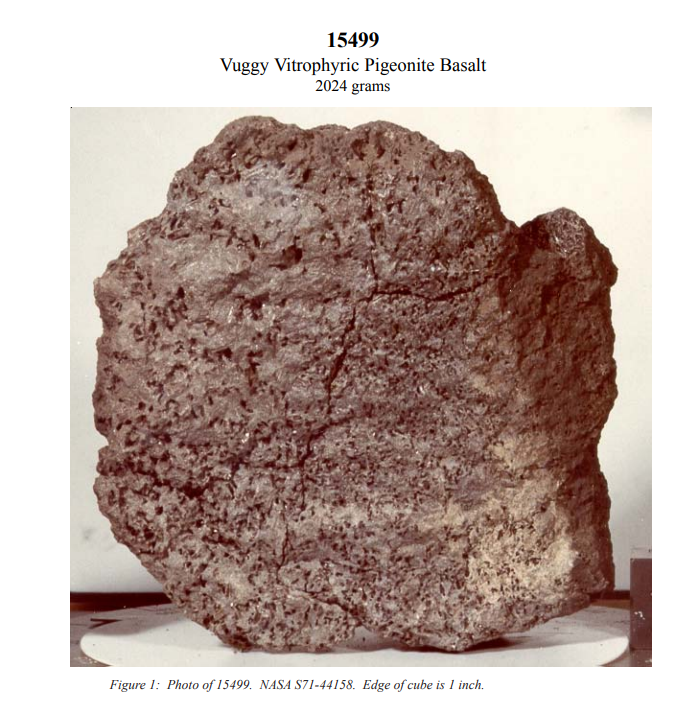Basalt: (107, 141, 631, 654), (118, 127, 601, 630), (190, 209, 522, 612)
